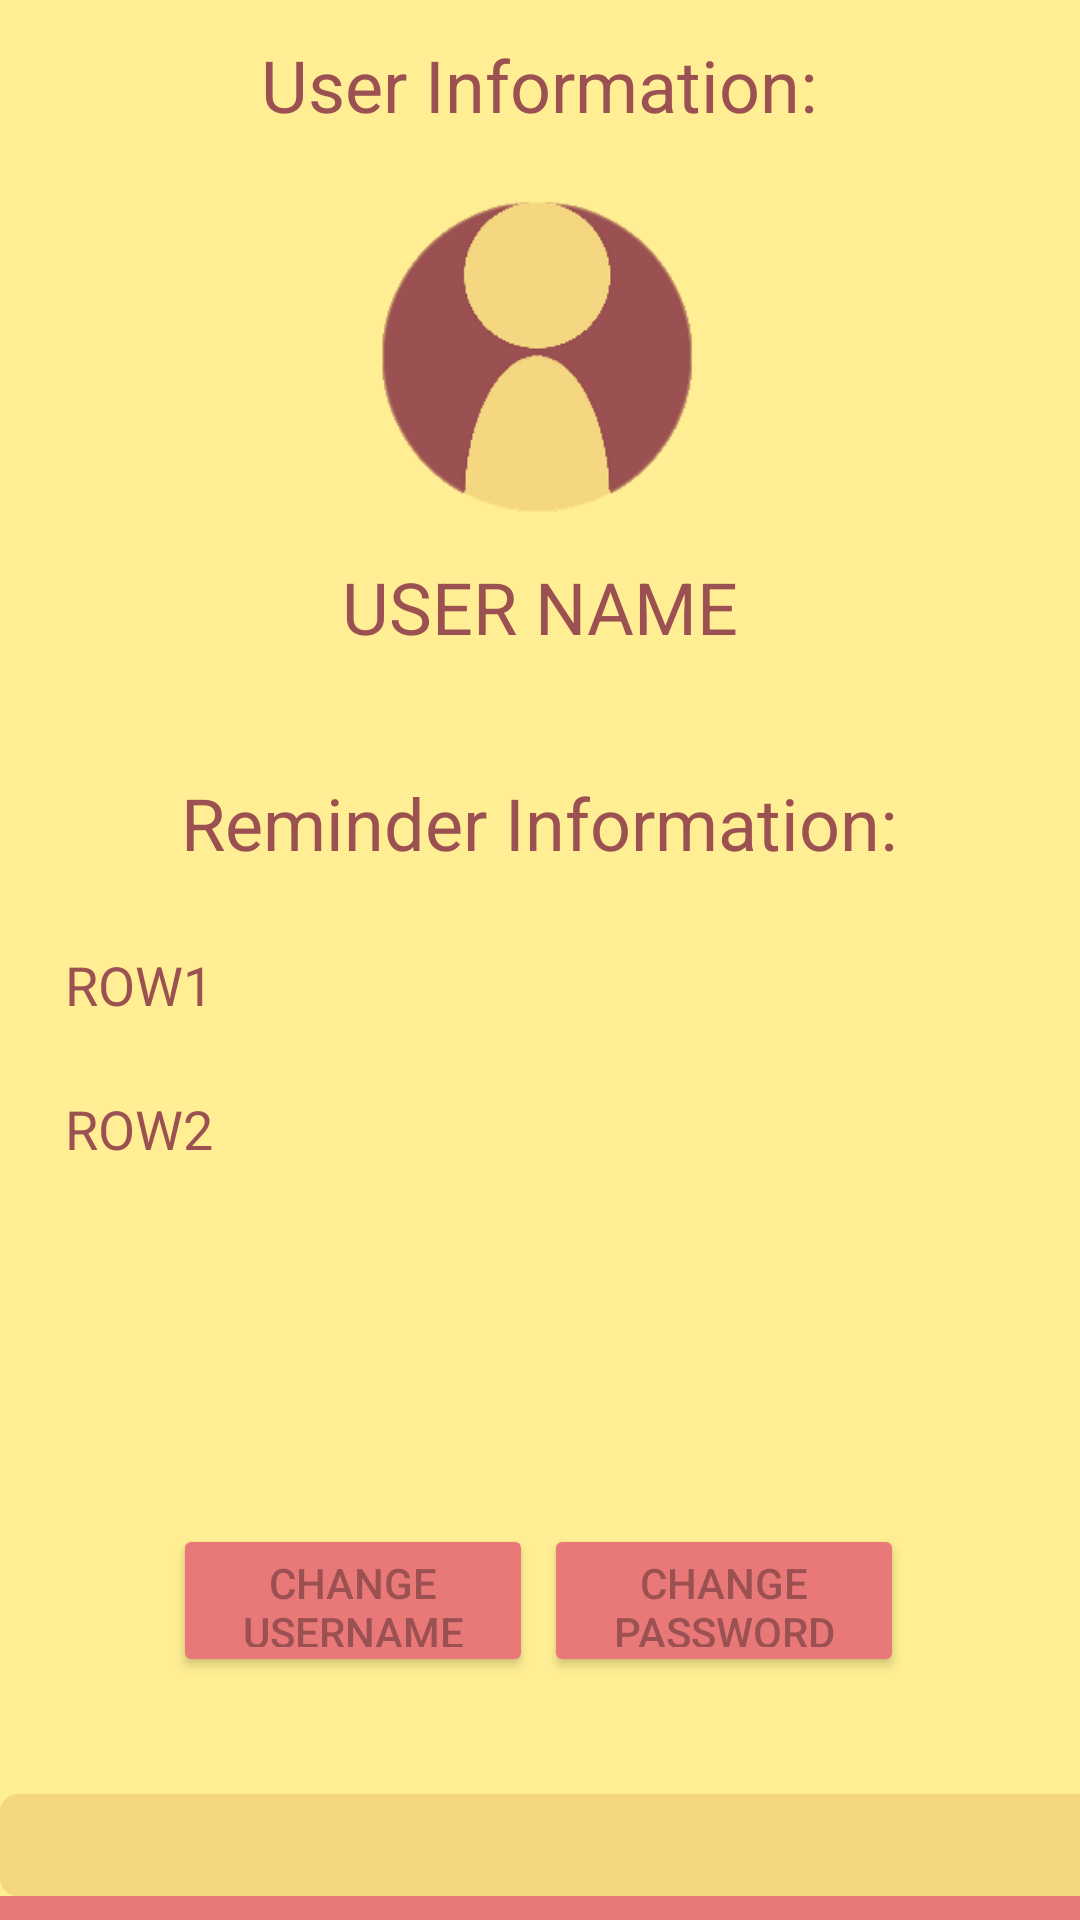

Icons on this 1080px x 1920px Android screen, each with its box as box(x1, y1, x2, y2):
account: box(382, 202, 693, 512)
